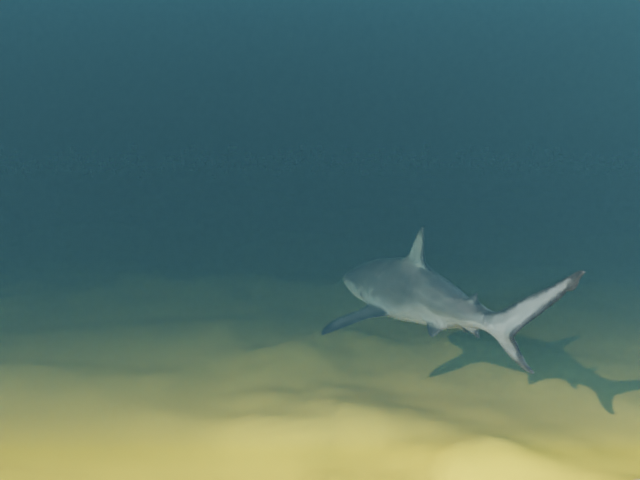Carribean Shark.001: (321, 226, 585, 374)
